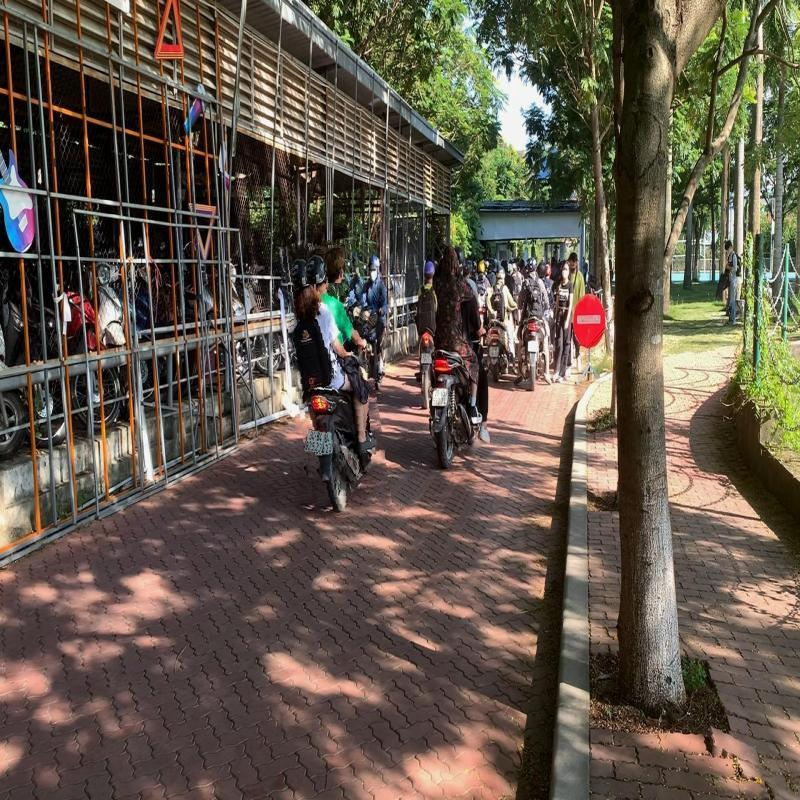helmet: (306, 254, 326, 284)
licenseplate: (304, 430, 324, 453)
motorcyclist: (286, 239, 383, 517)
nohelmet: (326, 245, 346, 283)
